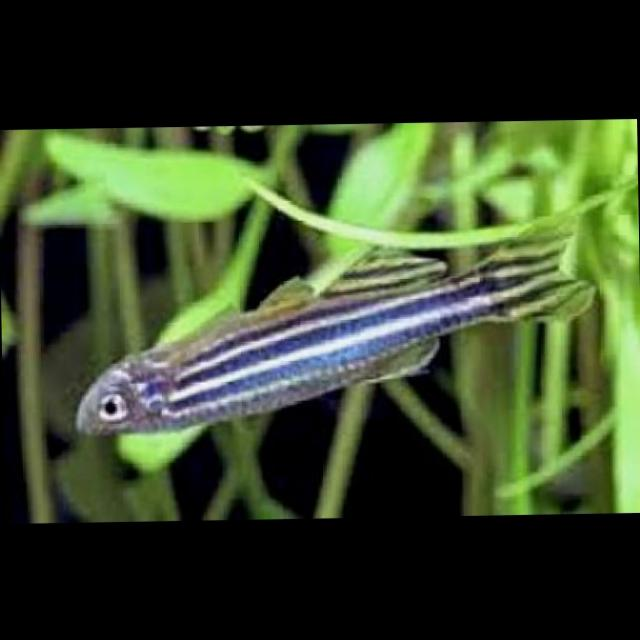ZebraFish: (70, 224, 594, 438)
